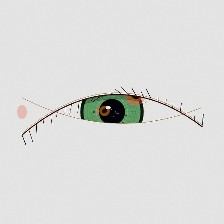foreign_body_visible: (111, 76, 159, 114)
